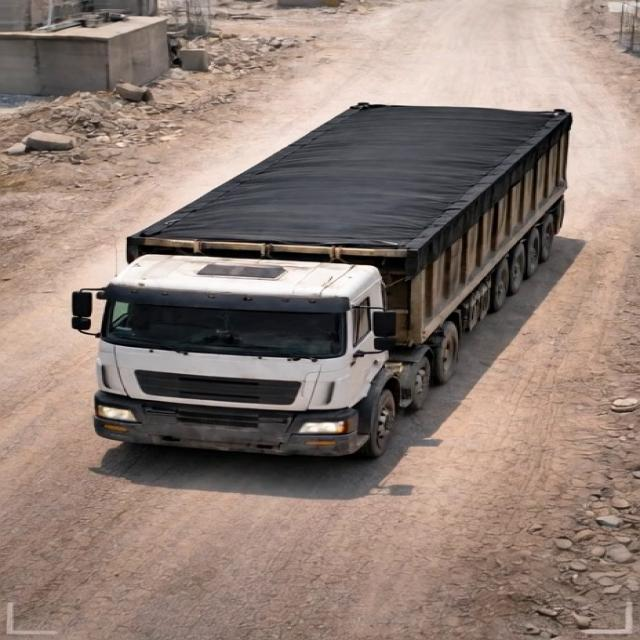trailer: (126, 99, 571, 249)
truck: (66, 86, 598, 451)
